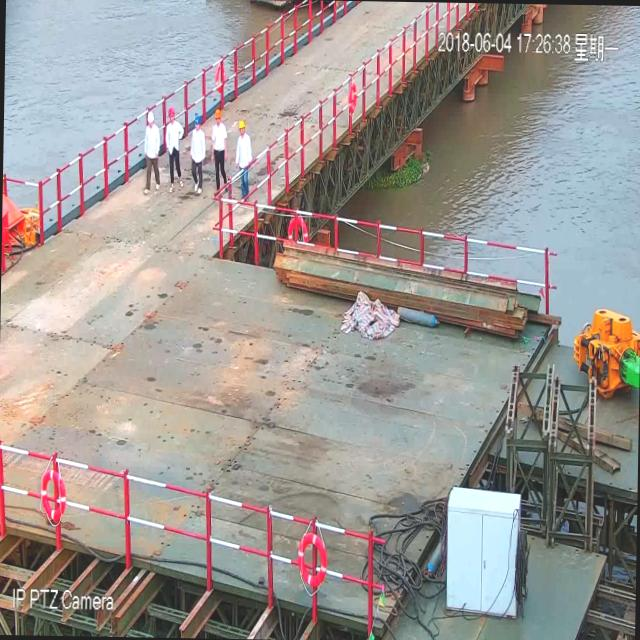helmet: (166, 103, 177, 122), (212, 108, 224, 120), (193, 116, 202, 130), (146, 112, 155, 125), (237, 119, 245, 131)
no-vest: (210, 121, 228, 159), (234, 131, 252, 169), (164, 120, 182, 154), (144, 124, 160, 160), (190, 128, 206, 163)
